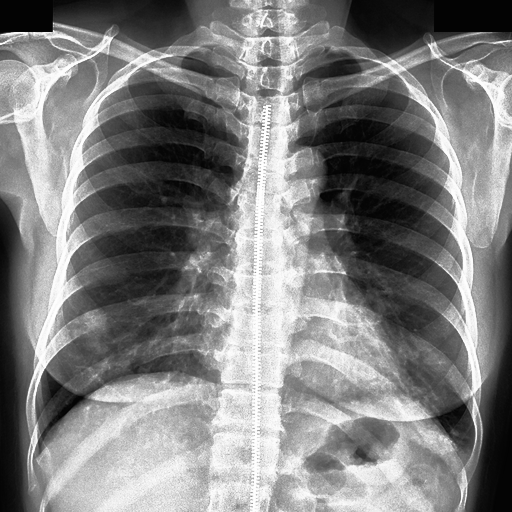Other lesion: (82, 310, 108, 333)
Pleural thickening: (65, 305, 138, 377), (82, 336, 110, 354)
Pneumothorax: (82, 336, 110, 354), (449, 429, 470, 442)
Pulmonary fibrosis: (82, 310, 108, 333)
